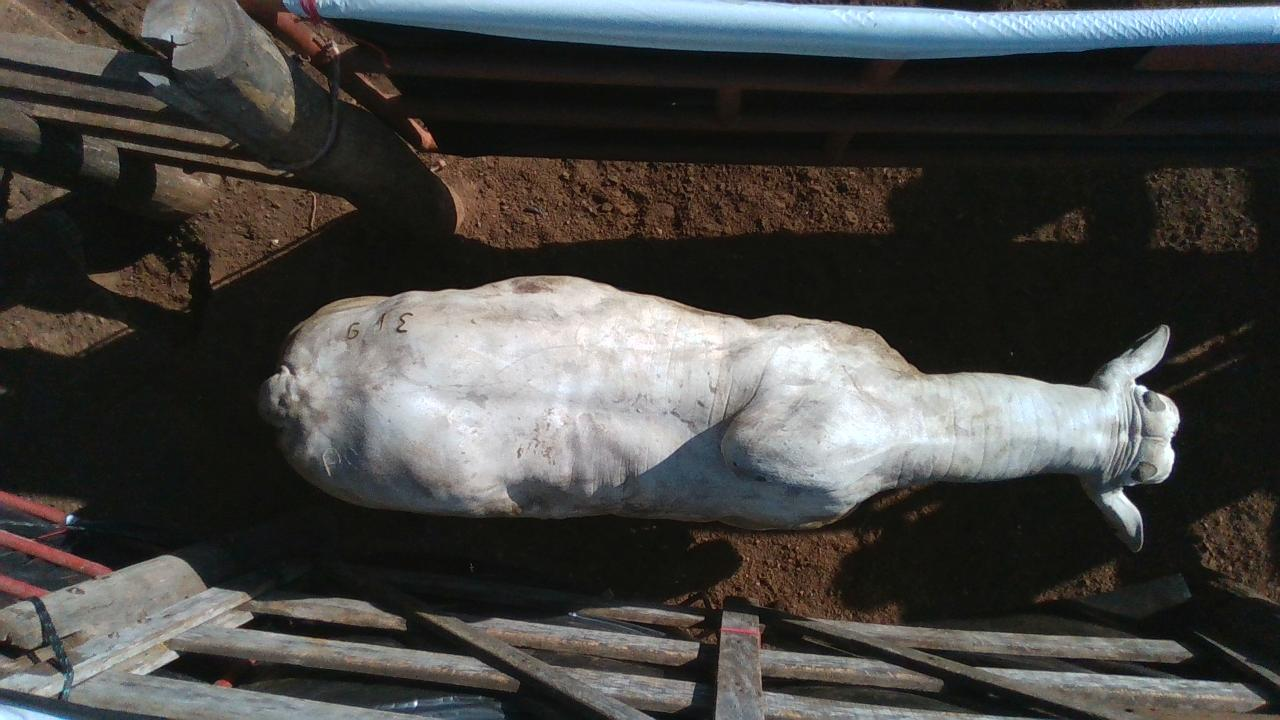cattle: (256, 272, 1181, 552)
